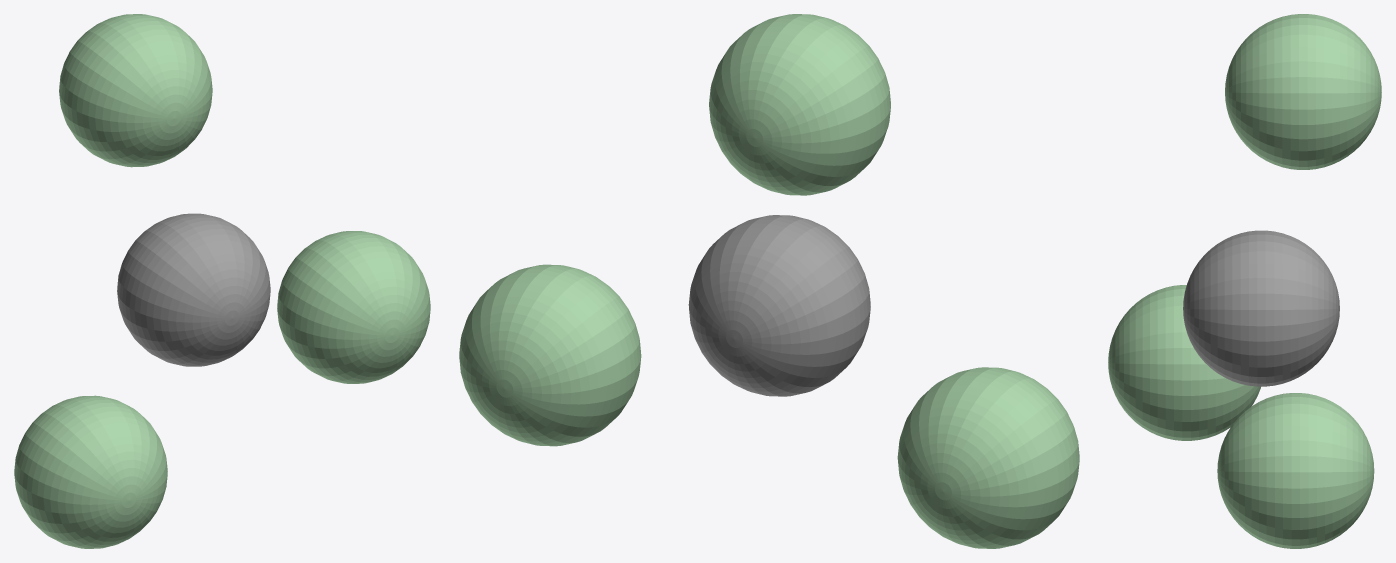
Rendered from Boron Trifluoride.glb.
3 renders of one model, left to right at view 1: azimuth 30°, elevation 25°; view 2: azimuth 150°, elevation 25°; view 3: azimuth 270°, elevation 25°, orthographic. The views are drawn at different scales.
Parts seen in each view (by area): view 1: world; view 2: world; view 3: world.
Part boxes in pixels (x1,y1,x2,y2): world: (14, 14, 430, 548); world: (459, 14, 1079, 548); world: (1108, 14, 1381, 548).
Size of the model in its own units: 3.38 by 3.26 by 1.74.
